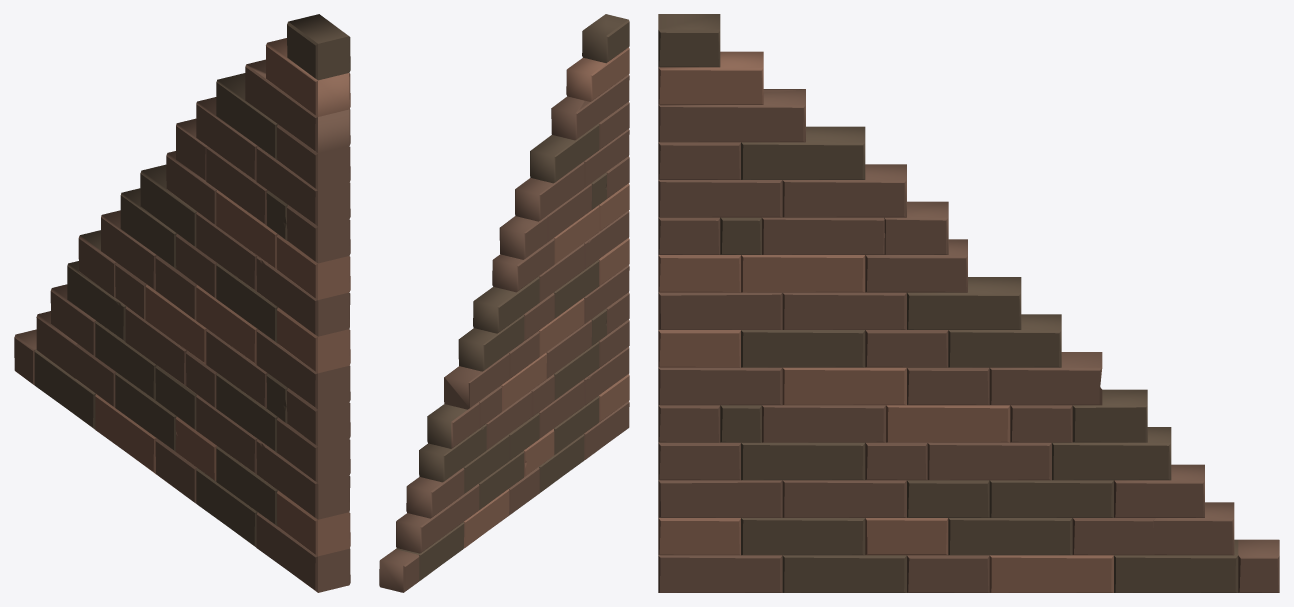
The model's file is cogling_wall_corner.fbx.
3 views of the same model, side by side, from view 1: azimuth 30°, elevation 25°; view 2: azimuth 150°, elevation 25°; view 3: azimuth 270°, elevation 25° (orthographic). The views are drawn at different scales.
Parts seen in each view (by area): view 1: Cube.164; view 2: Cube.164; view 3: Cube.164.
Boxes of the visible parts, x1,y1,x2,y2 form: Cube.164: [14, 14, 350, 592]; Cube.164: [379, 14, 629, 592]; Cube.164: [658, 14, 1279, 592].
Bounding box in the file's own units: 300 × 20 × 300.
